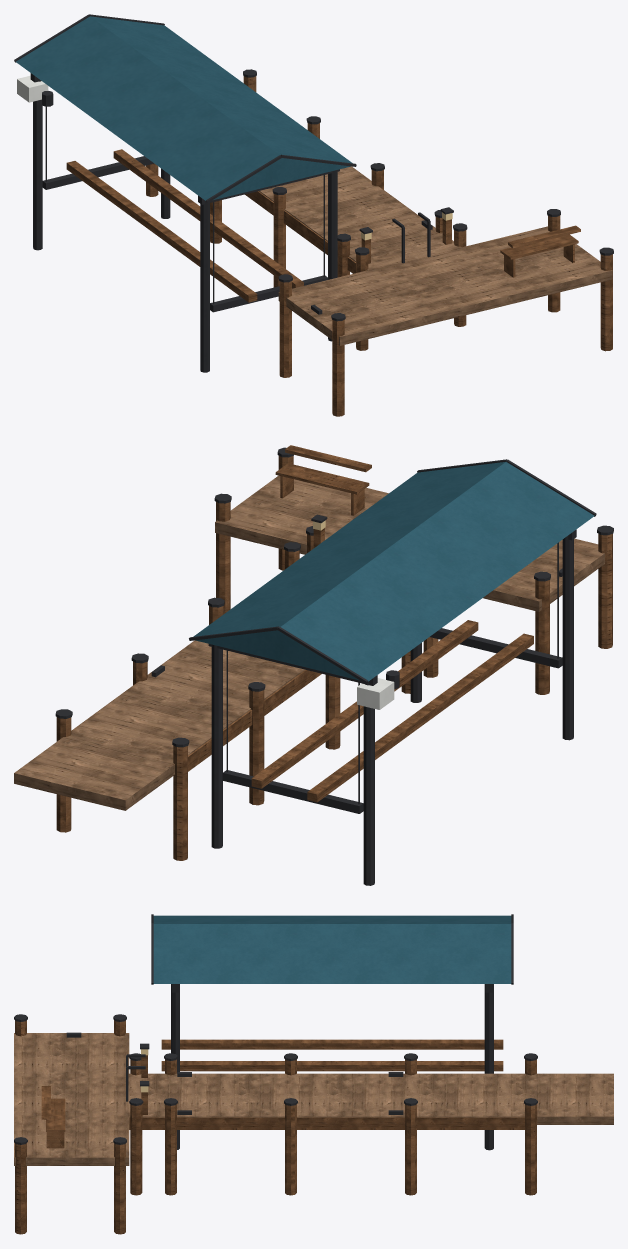
The model's file is gulf_dock_lift.fbx.
3 renders of one model, top to bottom at view 1: azimuth 30°, elevation 25°; view 2: azimuth 150°, elevation 25°; view 3: azimuth 270°, elevation 25°, orthographic. The views are drawn at different scales.
Visible parts, largest first — view 1: gulf_dock_lift_LOD0; view 2: gulf_dock_lift_LOD0; view 3: gulf_dock_lift_LOD0.
Boxes of the visible parts, left/top/right/bottom form: gulf_dock_lift_LOD0: left=14, top=14, right=613, bottom=416; gulf_dock_lift_LOD0: left=14, top=445, right=613, bottom=885; gulf_dock_lift_LOD0: left=14, top=914, right=613, bottom=1234.
Size of what is drawn, in the model's own units: 8 by 4.69 by 13.
1 material, 1 textured.
